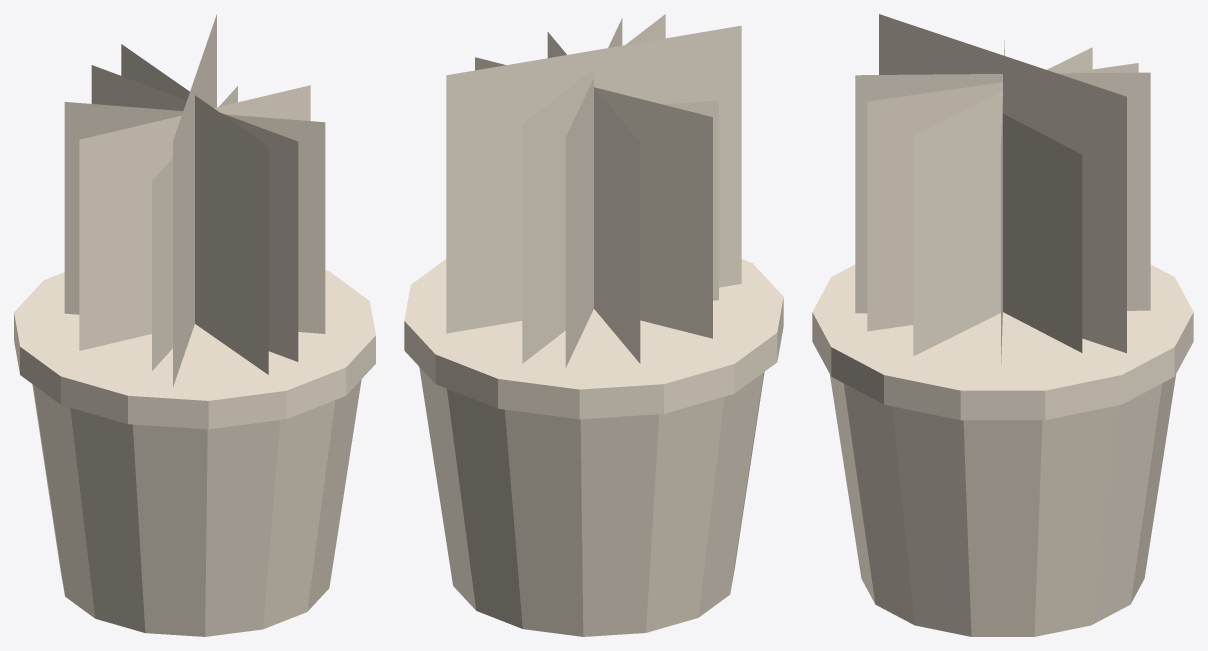
File: SM_VK_Prop_Planter.fbx
3 views of the same model, side by side, from view 1: azimuth 30°, elevation 25°; view 2: azimuth 150°, elevation 25°; view 3: azimuth 270°, elevation 25° (orthographic). The views are drawn at different scales.
Parts seen in each view (by area): view 1: SM_VK_Prop_Planter.001; view 2: SM_VK_Prop_Planter.001; view 3: SM_VK_Prop_Planter.001.
Part boxes in pixels (box(x1,y1,x2,y2)): SM_VK_Prop_Planter.001: box(14, 14, 375, 636); SM_VK_Prop_Planter.001: box(404, 14, 783, 636); SM_VK_Prop_Planter.001: box(812, 14, 1193, 636).
Size of the model in its own units: 0.6824 by 1.06 by 0.7.
